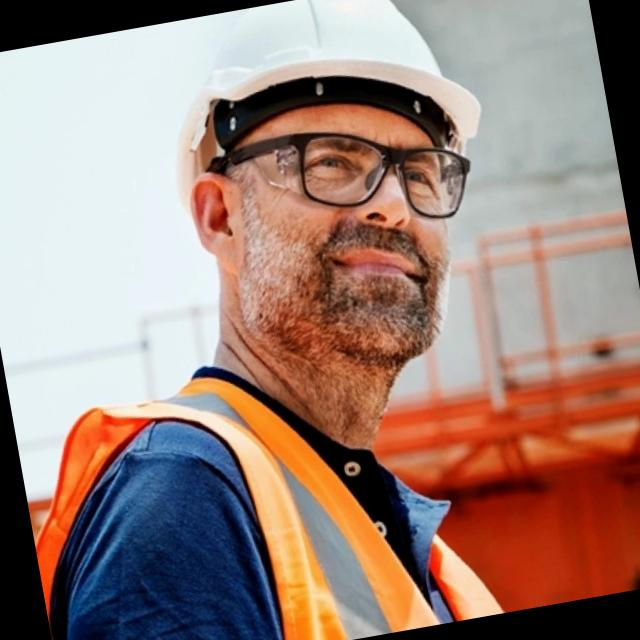goggles: (199, 86, 496, 274)
helmet: (115, 0, 484, 206)
vest: (11, 335, 492, 640)
